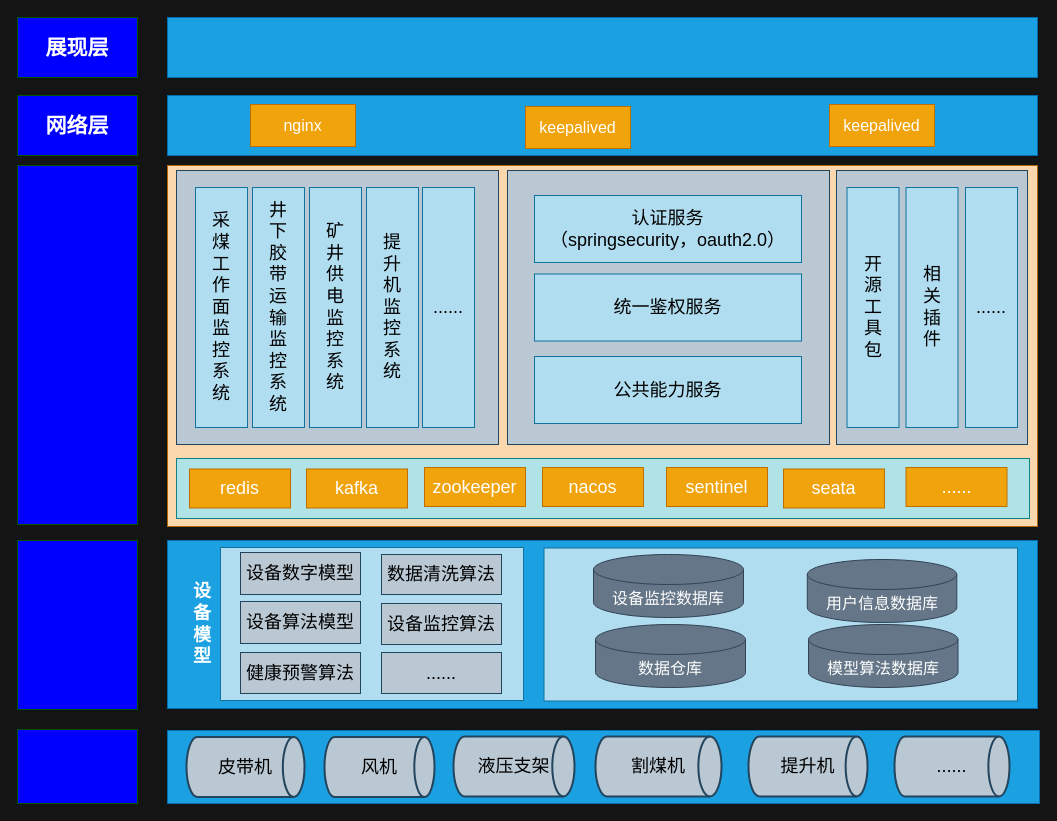
Some shapes in this 1057 by 821 pixel diagram are drawn without their labels. The shapes that lost their labels are listed below. From the top down, each one's centre as x and y in pixels, then its label:
At (602,47): "APP PC端 大屏端 小程序".
At (77,344): "业务层".
At (77,625): "边缘层".
At (77,766): "设备层".
